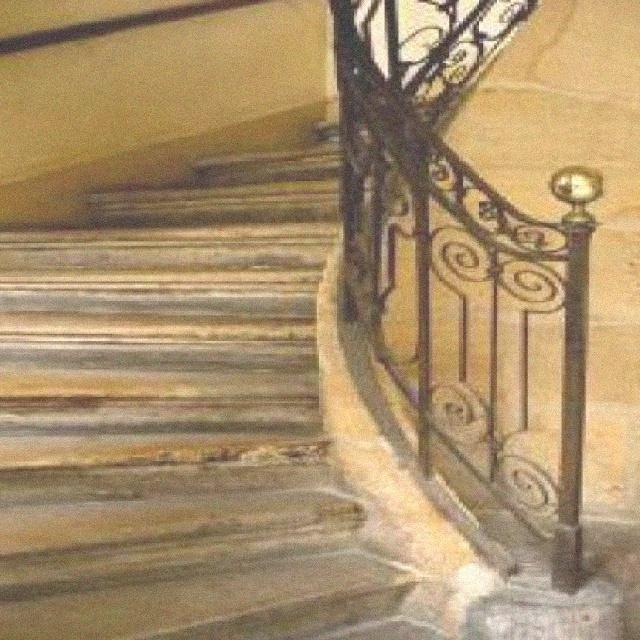stair: (4, 0, 583, 638)
